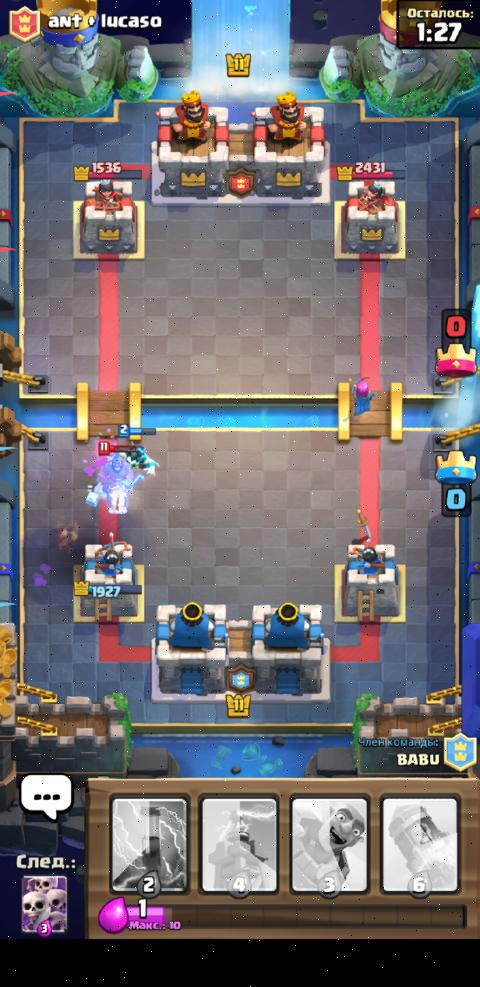EHogRider: (90, 445, 137, 515)
EKingTower: (152, 93, 237, 193), (249, 96, 334, 196)
EnemyPrincessTower: (338, 171, 409, 259), (69, 174, 140, 262)
OArcher: (347, 377, 381, 420)
OElectroWizard: (120, 427, 157, 473)
OwnKingTower: (149, 601, 234, 701), (244, 596, 328, 696)
OwnPrincessTower: (339, 535, 397, 616), (82, 538, 140, 618)
